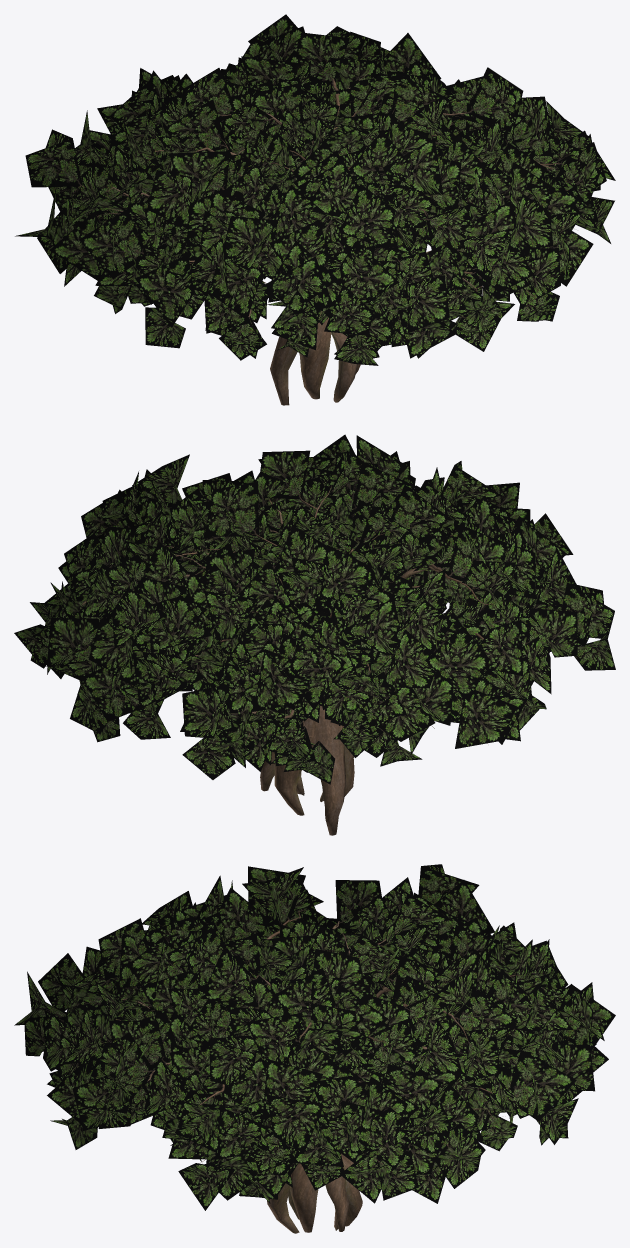
Rendered from m_giantTree.fbx.
3 views of the same model, one above another, from view 1: azimuth 30°, elevation 25°; view 2: azimuth 150°, elevation 25°; view 3: azimuth 270°, elevation 25° (orthographic).
Visible parts, largest first — view 1: mesh_giantTree_leaves_LOD0, mesh_giantTree_stem_LOD0; view 2: mesh_giantTree_leaves_LOD0, mesh_giantTree_stem_LOD0; view 3: mesh_giantTree_leaves_LOD0, mesh_giantTree_stem_LOD0.
Boxes of the visible parts, left/top/right/bottom form: mesh_giantTree_leaves_LOD0: left=15, top=14, right=615, bottom=365; mesh_giantTree_stem_LOD0: left=73, top=72, right=567, bottom=405; mesh_giantTree_leaves_LOD0: left=14, top=434, right=615, bottom=784; mesh_giantTree_stem_LOD0: left=82, top=485, right=576, bottom=835; mesh_giantTree_leaves_LOD0: left=14, top=864, right=615, bottom=1210; mesh_giantTree_stem_LOD0: left=65, top=910, right=520, bottom=1233.
Size of what is drawn, in the model's own units: 51.49 by 32.17 by 54.19.
